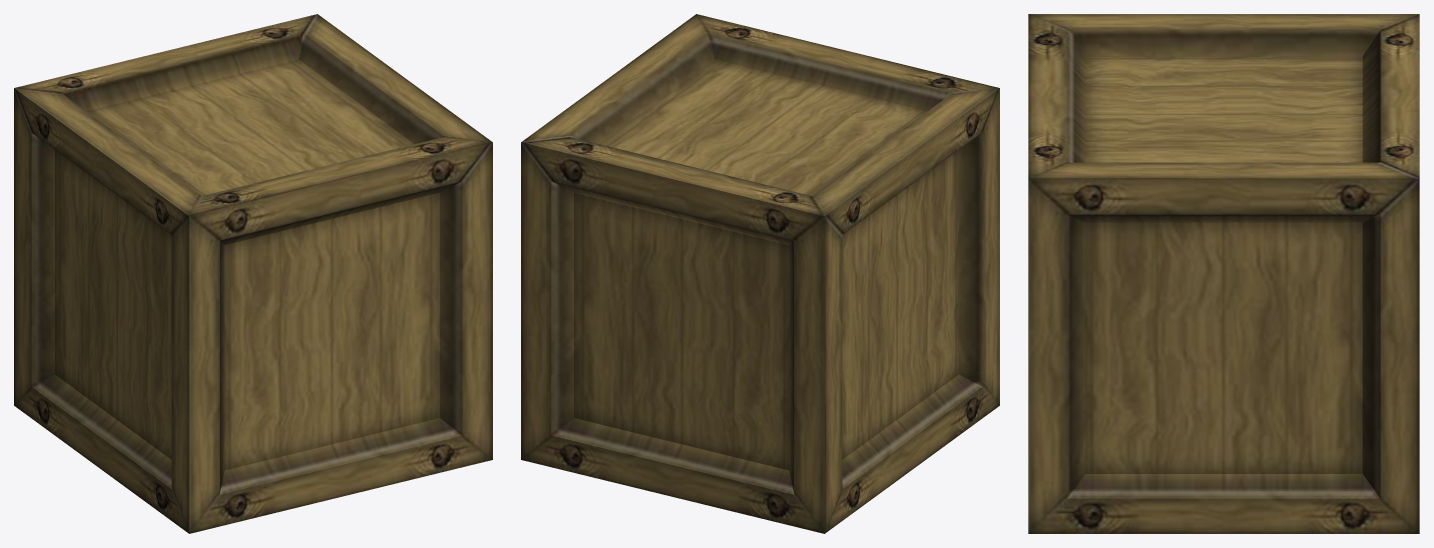
File: wooden_box_free.glb
The picture shows the model from 3 angles, left to right: view 1: azimuth 30°, elevation 25°; view 2: azimuth 150°, elevation 25°; view 3: azimuth 270°, elevation 25°; orthographic projection. The views are drawn at different scales.
Parts seen in each view (by area): view 1: Object_2; view 2: Object_2; view 3: Object_2.
Boxes of the visible parts, x1,y1,x2,y2 form: Object_2: (14, 14, 492, 533); Object_2: (521, 14, 999, 533); Object_2: (1028, 14, 1419, 533).
Bounding box in the file's own units: 10 × 10 × 10.
1 material, 1 textured.
